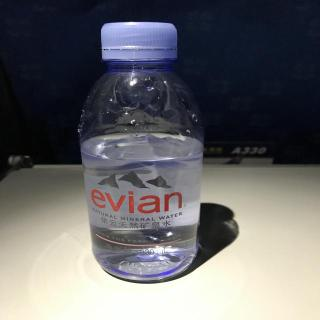Plastic-bottle: (70, 10, 208, 286)
